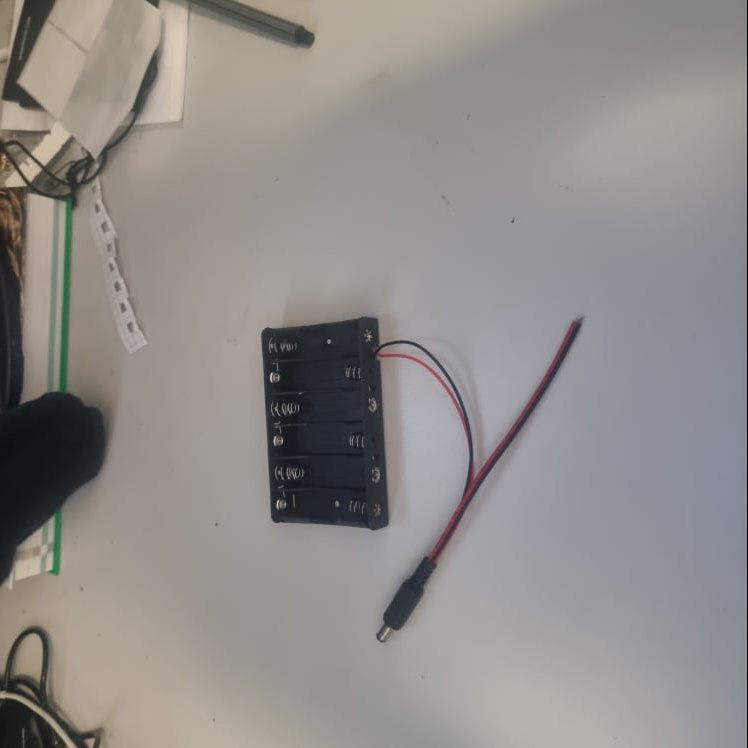BATTERY BOX: (261, 316, 391, 532)
